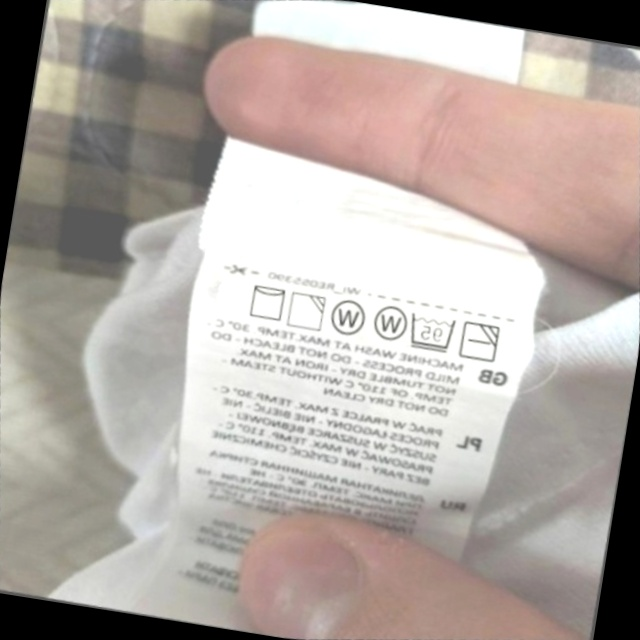95C: (397, 300, 466, 363)
dry_flat_in_shade: (450, 310, 511, 373)
line_dry: (237, 272, 296, 331)
shade_dry: (277, 281, 336, 341)
wet_clean: (319, 289, 376, 347), (361, 292, 417, 351)
